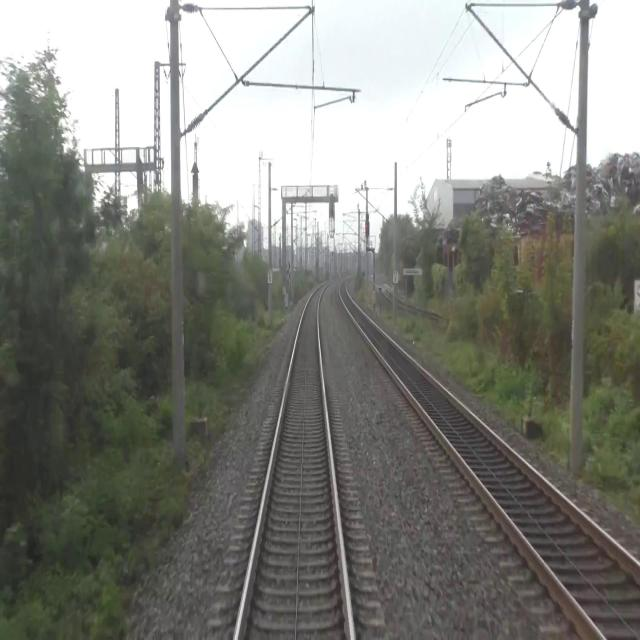rail-track: (340, 281, 640, 639), (237, 284, 350, 639)
